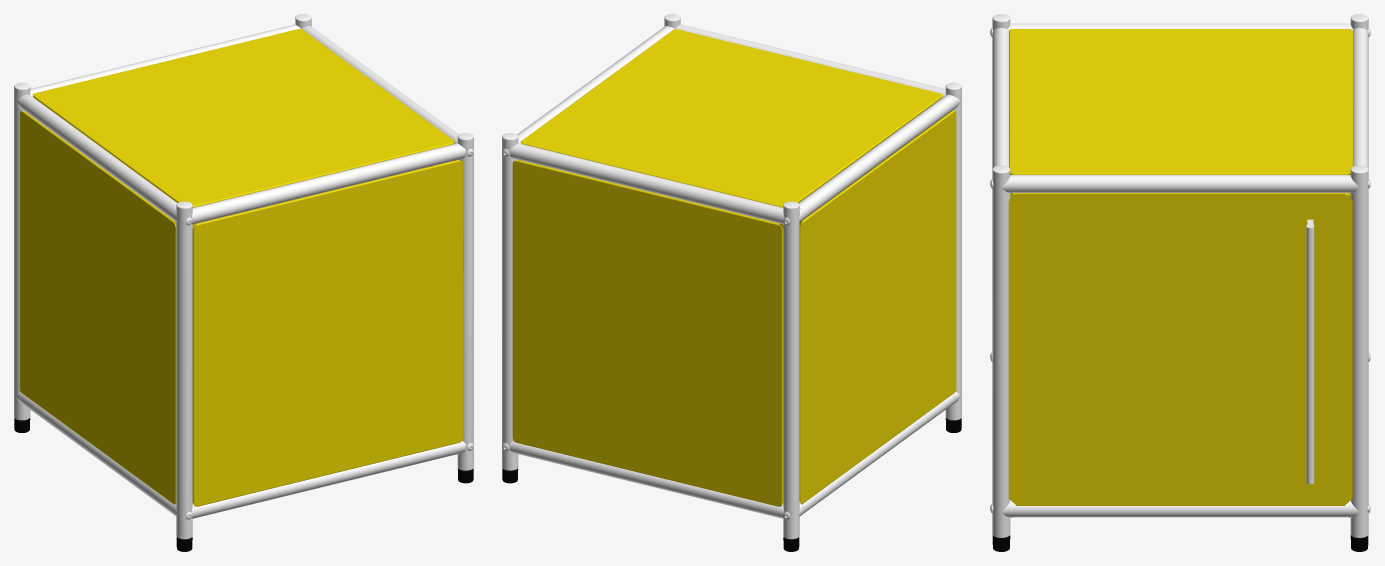
Rendered from 40x40x40-2-5-yellow_optimized_optimized.glb.
3 renders of one model, left to right at view 1: azimuth 30°, elevation 25°; view 2: azimuth 150°, elevation 25°; view 3: azimuth 270°, elevation 25°, orthographic. The views are drawn at different scales.
Parts seen in each view (by area): view 1: 直角鐵板-40x40-5 - 零件, 反-鐵管-40-354..4-1 - 零件, 圓形腳+調整器-1 - 零件; view 2: 直角鐵板-40x40-5 - 零件, 反-鐵管-40-354..4-1 - 零件, 圓形腳+調整器-1 - 零件; view 3: 直角鐵板-40x40-5 - 零件, 反-鐵管-40-354..4-1 - 零件, 圓形腳+調整器-1 - 零件.
Part boxes in pixels (x1,y1,x2,y2): 直角鐵板-40x40-5 - 零件: (20,28,463,506); 反-鐵管-40-354..4-1 - 零件: (14,14,473,539); 圓形腳+調整器-1 - 零件: (14,418,473,551); 直角鐵板-40x40-5 - 零件: (512,29,956,506); 反-鐵管-40-354..4-1 - 零件: (502,14,961,539); 圓形腳+調整器-1 - 零件: (502,418,961,551); 直角鐵板-40x40-5 - 零件: (1008,29,1352,505); 反-鐵管-40-354..4-1 - 零件: (990,14,1370,537); 圓形腳+調整器-1 - 零件: (992,535,1368,551).
Bounding box in the file's own units: 0.4203 × 0.4453 × 0.4035.
